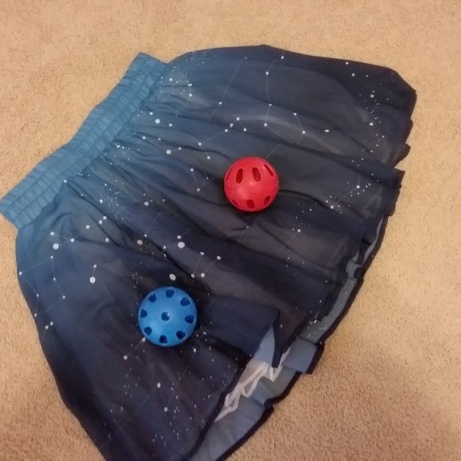ball: (135, 283, 200, 349), (220, 154, 284, 213)
